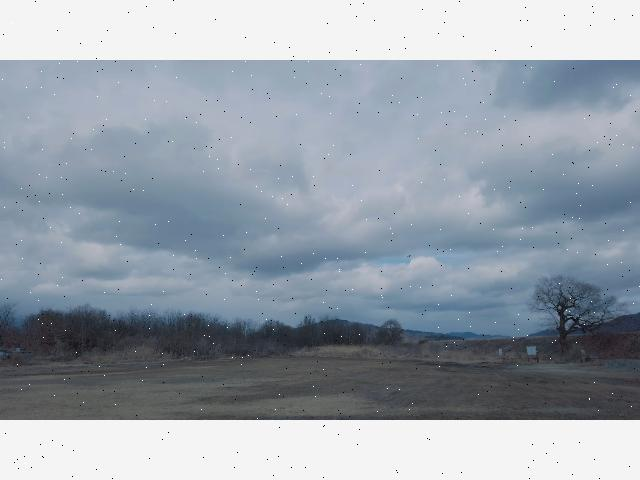Anti-Drone: (404, 252, 414, 260)
